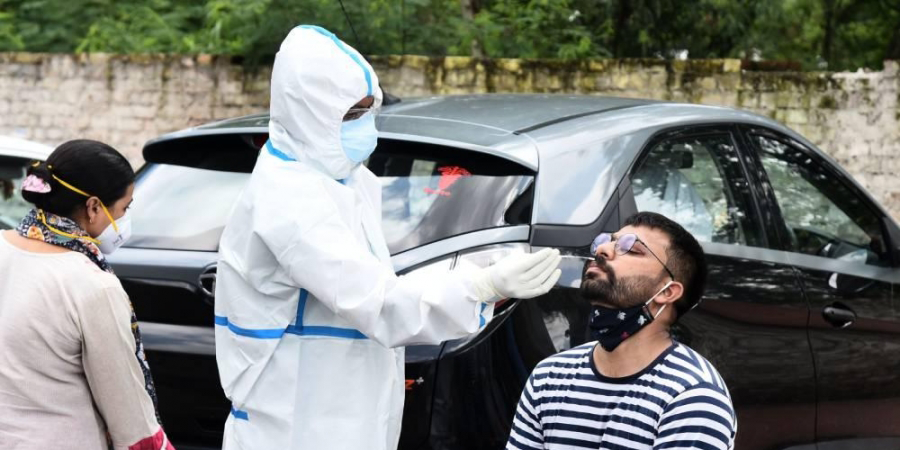Coverall: (215, 9, 450, 450)
Gloves: (480, 245, 560, 302)
with_mask: (333, 99, 383, 170)
